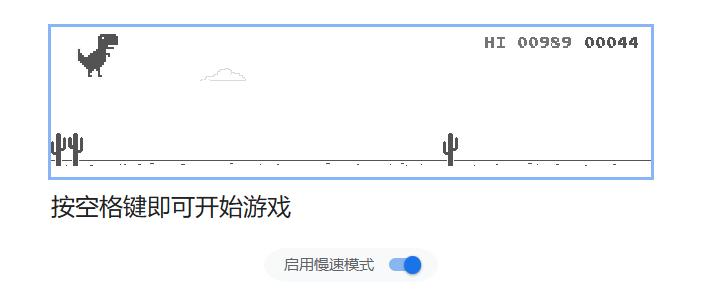cactus: (50, 132, 84, 167), (442, 132, 459, 167), (50, 132, 67, 167), (67, 133, 84, 168), (55, 133, 63, 167)
dino: (76, 32, 119, 78)
